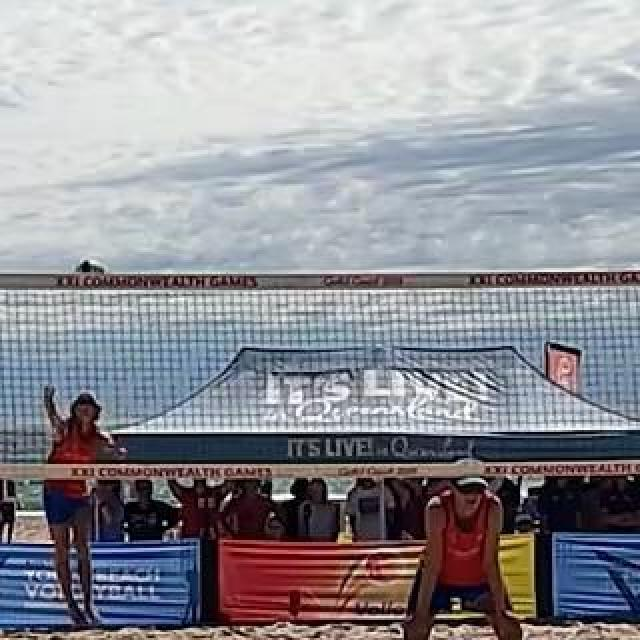volleyball: (72, 257, 106, 291)
